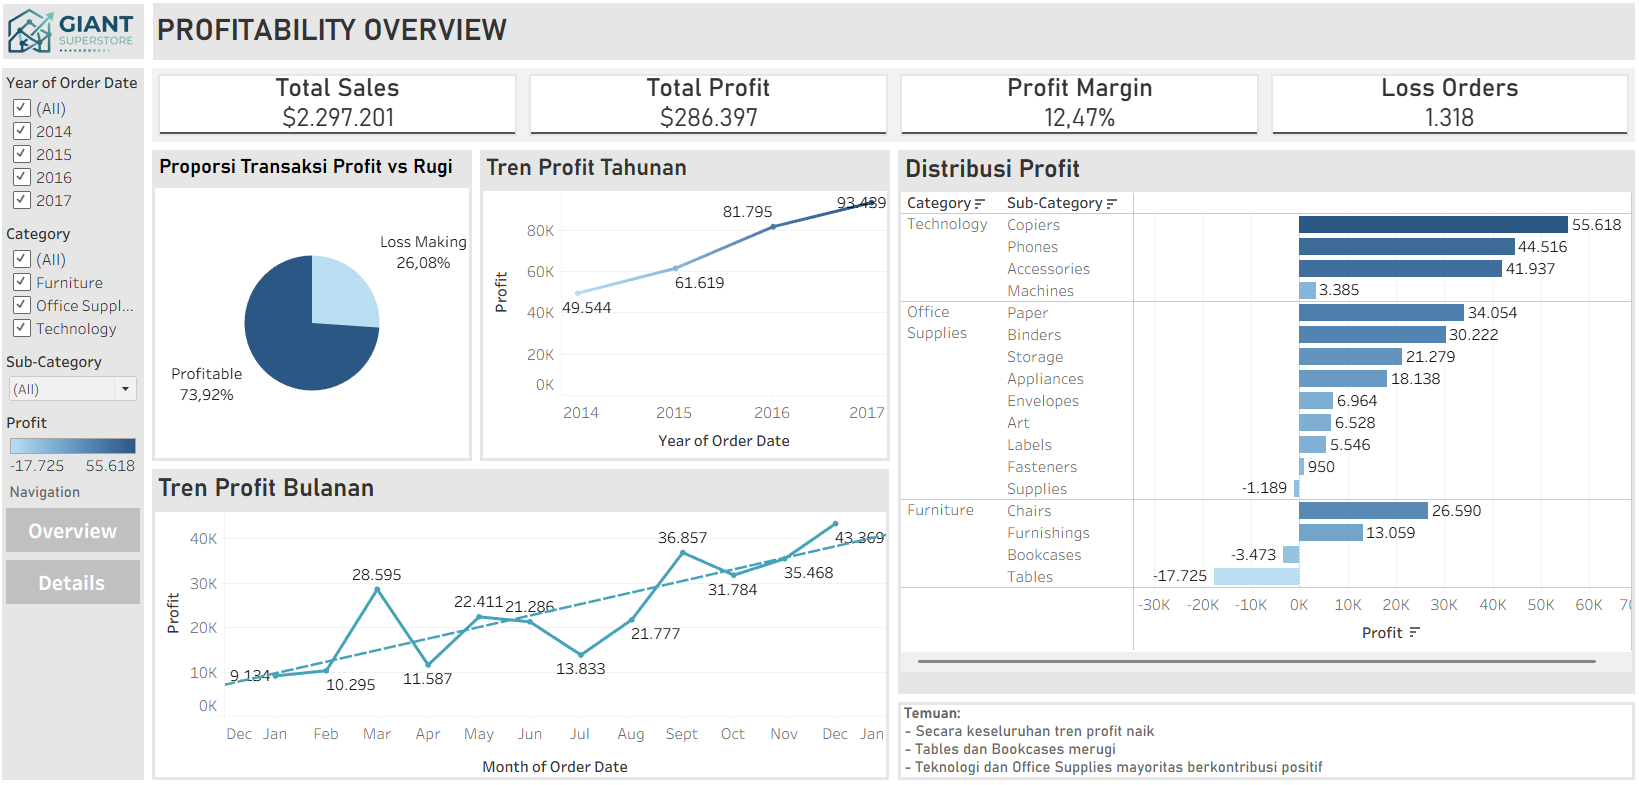

The dashboard page shown, as its layout file describes it:
{"tool":"tableau","page":{"name":"Dashboard 1","canvas":[1000,1000],"units":"permille","ordinal":0},"visuals":[{"type":"image","param":"Image/image-removebg-preview (5).png","box":[4.8,10,91.3,81.1]},{"type":"title","box":[96.1,10,899,81.1]},{"type":"filter","title":"Profit Trend","param":"[federated.0zs0vi01hys0k11h99owg1xbc66q].[yr:Order Date:ok]","box":[7.2,96,85.9,188.5]},{"type":"worksheet","title":"KPI Sales","mark":"Automatic","box":[97.8,96.1,223.9,92.4]},{"type":"worksheet","title":"KPI Profit","mark":"Automatic","box":[321.7,96.1,223.9,92.4]},{"type":"worksheet","title":"KPI Profit Margin","mark":"Automatic","box":[545.6,96.1,223.9,92.4]},{"type":"worksheet","title":"KPI Orders","mark":"Automatic","box":[769.5,96.1,223.3,92.4]},{"type":"worksheet","title":"pie","mark":"Pie","box":[95.6,193.4,197.7,398.2]},{"type":"worksheet","title":"Sales vs profit trend","mark":"Automatic","rows":["Profit"],"cols":["Order Date"],"box":[293.2,193.4,252.1,398.2]},{"type":"worksheet","title":"Prof by Sub Cat","mark":"Automatic","rows":["Category","Sub-Category"],"cols":["Profit"],"box":[545.3,193.4,449.8,689.1]},{"type":"filter","title":"Prof by Sub Cat","param":"[federated.0zs0vi01hys0k11h99owg1xbc66q].[none:Category:nk]","box":[7.2,284.6,85.9,159.8]},{"type":"filter","title":"Prof by Sub Cat","param":"[federated.0zs0vi01hys0k11h99owg1xbc66q].[none:Sub-Category:nk]","box":[7.2,444.4,85.9,76.2]},{"type":"legend","title":"Prof by Sub Cat","param":"[federated.0zs0vi01hys0k11h99owg1xbc66q].[sum:Profit:qk]","box":[7.2,520.5,85.9,91.1]},{"type":"worksheet","title":"Profit Trend","mark":"Automatic","rows":["Profit"],"cols":["Order Date"],"box":[95.6,591.7,449.8,398.3]},{"type":"text","box":[7.2,611.7,85.9,28.7]},{"type":"dashboard-object","box":[7.2,640.4,85.9,64.9]},{"type":"dashboard-object","box":[7.2,705.3,85.9,64.9]},{"type":"text","box":[545.3,882.6,449.8,107.4]}]}

Visuals, with their boxes on the dashboard's canvas, which has no fixed pixel size, in thousandths of its width and height (x1, y1, x2, y2). These are canvas units, not pixel positions in the 1639x785 screenshot, which may show the page scaled, cropped or inside an application window:
image: pyautogui.locateOnScreen(5, 10, 96, 91)
title: pyautogui.locateOnScreen(96, 10, 995, 91)
"Profit Trend" filter: pyautogui.locateOnScreen(7, 96, 93, 284)
"KPI Sales" worksheet: pyautogui.locateOnScreen(98, 96, 322, 188)
"KPI Profit" worksheet: pyautogui.locateOnScreen(322, 96, 546, 188)
"KPI Profit Margin" worksheet: pyautogui.locateOnScreen(546, 96, 770, 188)
"KPI Orders" worksheet: pyautogui.locateOnScreen(770, 96, 993, 188)
"pie" worksheet (Pie marks): pyautogui.locateOnScreen(96, 193, 293, 592)
"Sales vs profit trend" worksheet: pyautogui.locateOnScreen(293, 193, 545, 592)
"Prof by Sub Cat" worksheet: pyautogui.locateOnScreen(545, 193, 995, 882)
"Prof by Sub Cat" filter: pyautogui.locateOnScreen(7, 285, 93, 444)
"Prof by Sub Cat" filter: pyautogui.locateOnScreen(7, 444, 93, 521)
"Prof by Sub Cat" legend: pyautogui.locateOnScreen(7, 520, 93, 612)
"Profit Trend" worksheet: pyautogui.locateOnScreen(96, 592, 545, 990)
text: pyautogui.locateOnScreen(7, 612, 93, 640)
dashboard-object: pyautogui.locateOnScreen(7, 640, 93, 705)
dashboard-object: pyautogui.locateOnScreen(7, 705, 93, 770)
text: pyautogui.locateOnScreen(545, 883, 995, 990)
